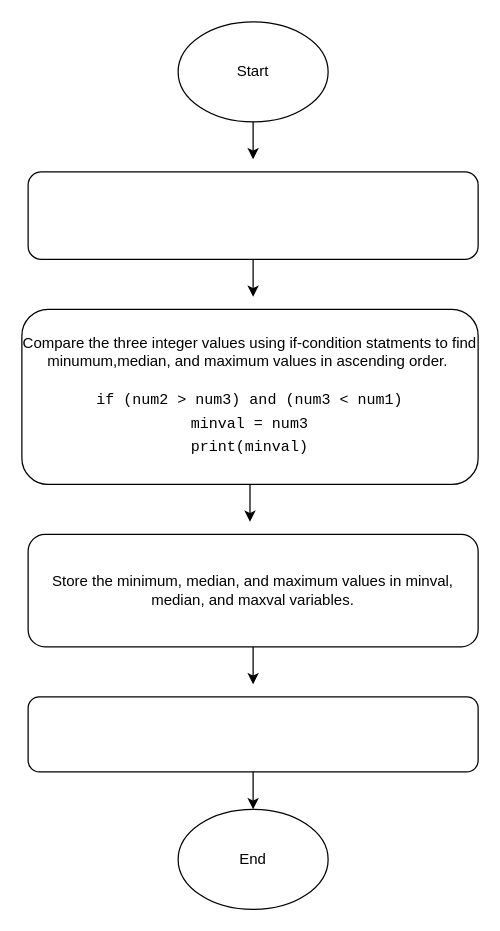
Some shapes in this 500 by 931 pixel diagram are drawn without their labels. The shapes that lost their labels are listed below. From the top down, each one's centre as x and y in pixels, then its label:
At [252,215]: "Enter 3 integer values for num1, num2, and num3".
At [252,734]: "Print minval, median, and maximum".
